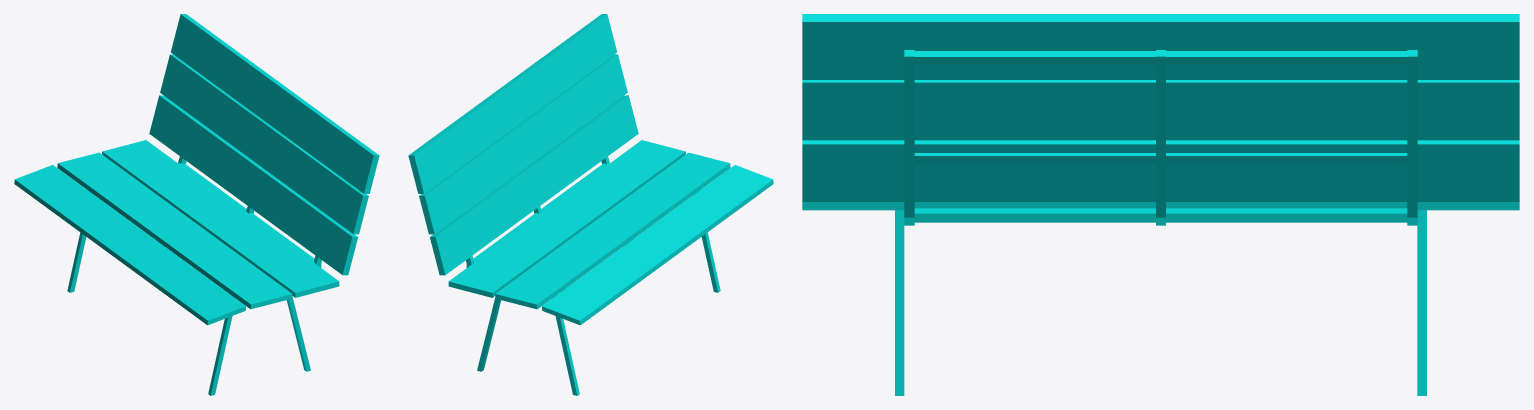
The model's file is chair.fbx.
The picture shows the model from 3 angles, left to right: view 1: azimuth 30°, elevation 25°; view 2: azimuth 150°, elevation 25°; view 3: azimuth 270°, elevation 25°; orthographic projection. The views are drawn at different scales.
Parts seen in each view (by area): view 1: polySurface61; view 2: polySurface61; view 3: polySurface61.
Part boxes in pixels (<box>): polySurface61: <box>14,14,379,395</box>; polySurface61: <box>408,14,773,395</box>; polySurface61: <box>802,14,1519,395</box>.
Bounding box in the file's own units: 0.5908 × 0.7327 × 1.14.
